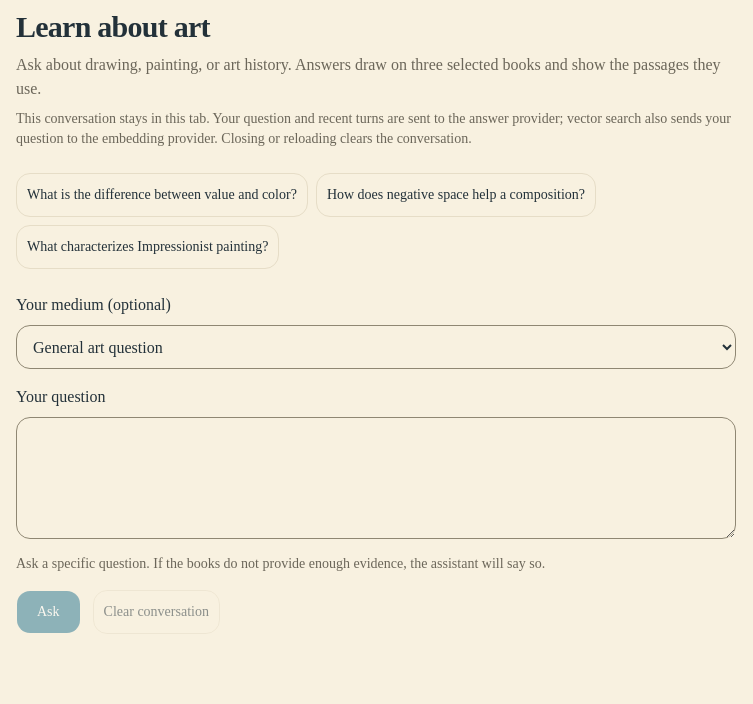
Scenario: learning chat › retains the draft when the service fails
In the text box labelled "Your question": (376, 478) [16, 417, 736, 539], type "What is value?"
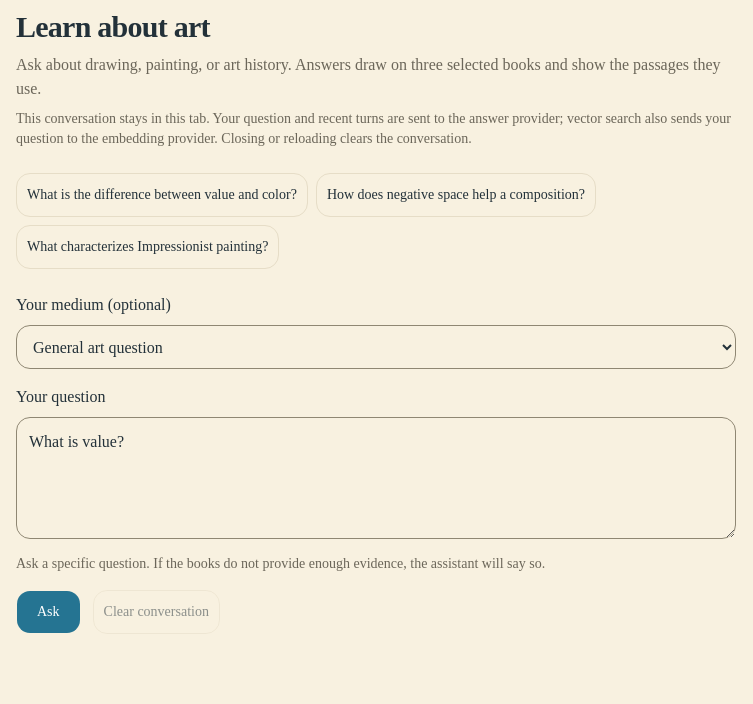
Click the button "Ask": click(48, 612) [16, 590, 81, 634]
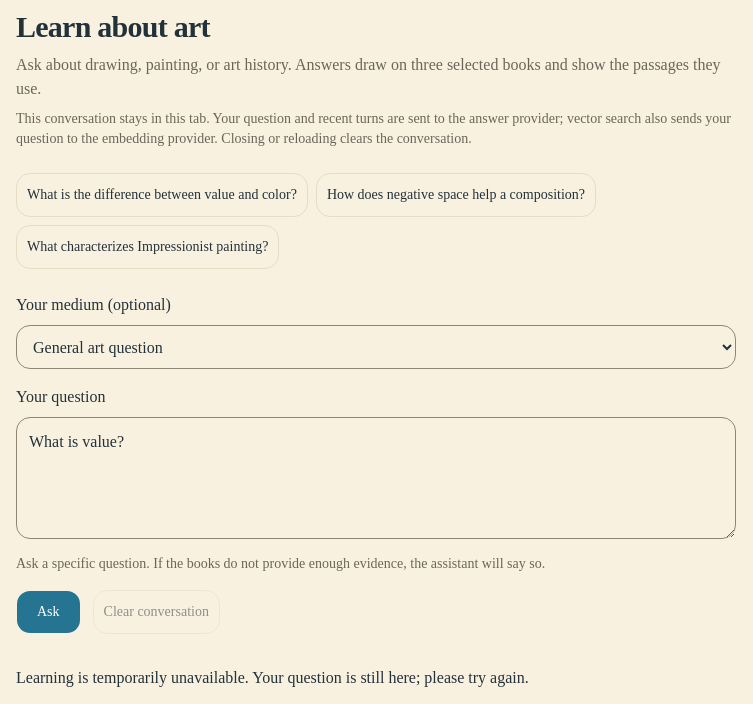
Expected: the message is shown, [16, 669, 529, 686]
